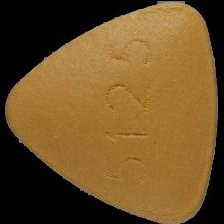43063-288: (0, 0, 224, 224)
